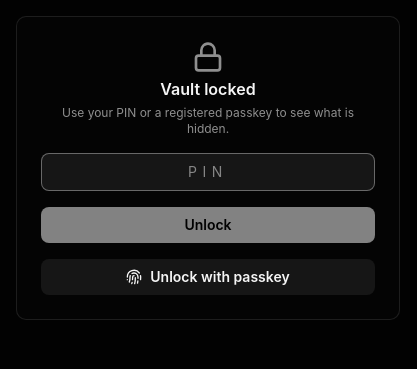
Test: vault passkey unlock › shows passkey errors and keeps the PIN fallback
Click the button "Unlock with passkey".
click(208, 277)  # box [41,259,375,295]
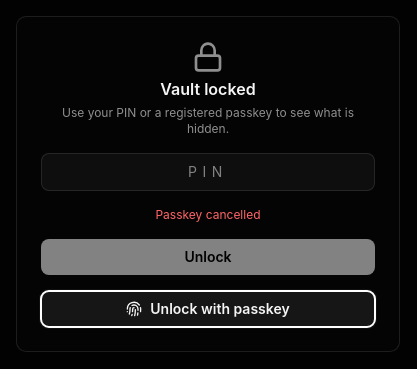
Expected: the password field labelled "PIN" is shown, [41,153,375,191]
Result: the text "Passkey cancelled" is shown at [156,207,261,222]
